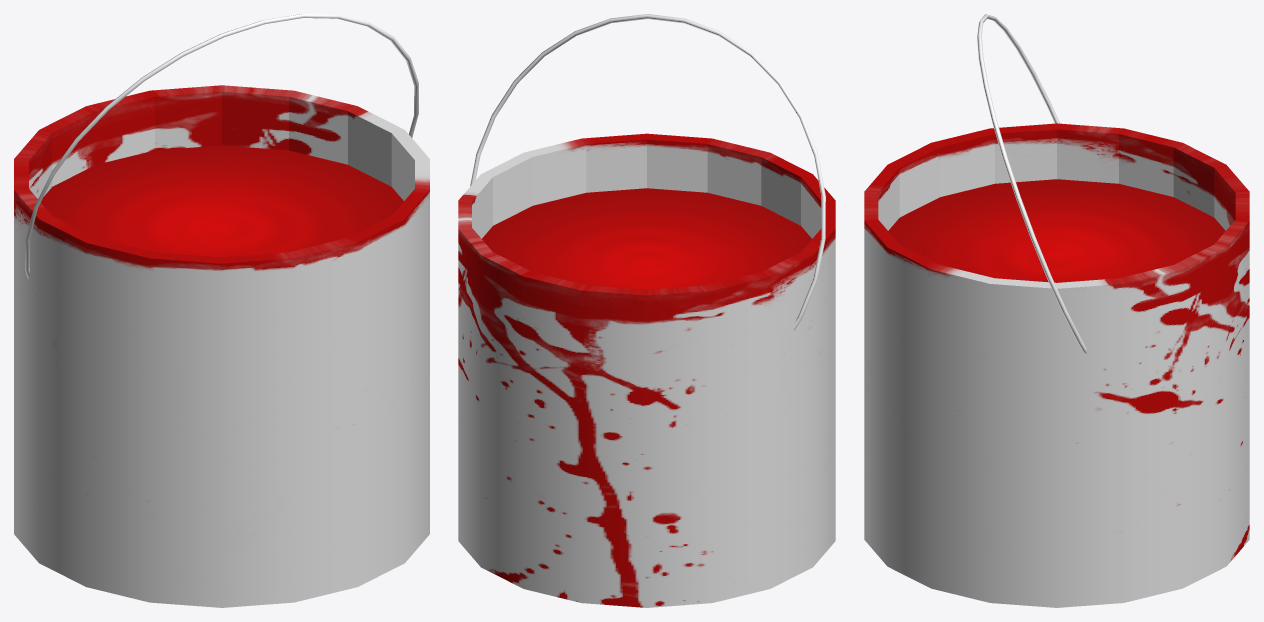
The model's file is bucket.FBX.
3 views of the same model, side by side, from view 1: azimuth 30°, elevation 25°; view 2: azimuth 150°, elevation 25°; view 3: azimuth 270°, elevation 25° (orthographic). The views are drawn at different scales.
Parts seen in each view (by area): view 1: bucket; view 2: bucket; view 3: bucket.
Part boxes in pixels (bbox=[...]): bucket: bbox=[14, 14, 429, 607]; bucket: bbox=[458, 14, 835, 607]; bucket: bbox=[864, 14, 1249, 607].
Bounding box in the file's own units: 201 × 264 × 188.
